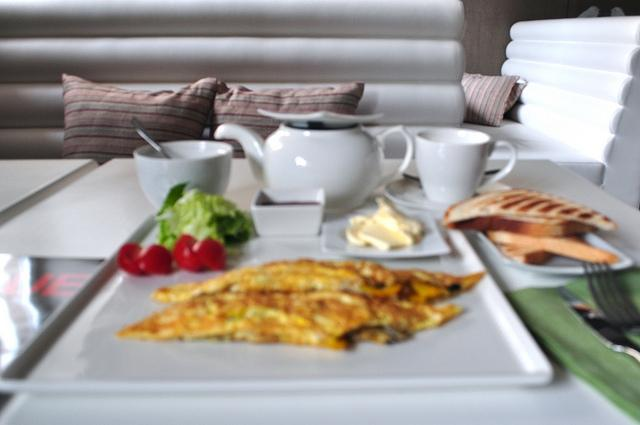lettuce: (156, 181, 252, 256)
tomato: (190, 238, 228, 272), (172, 235, 205, 272), (136, 243, 172, 274), (117, 243, 146, 275)
